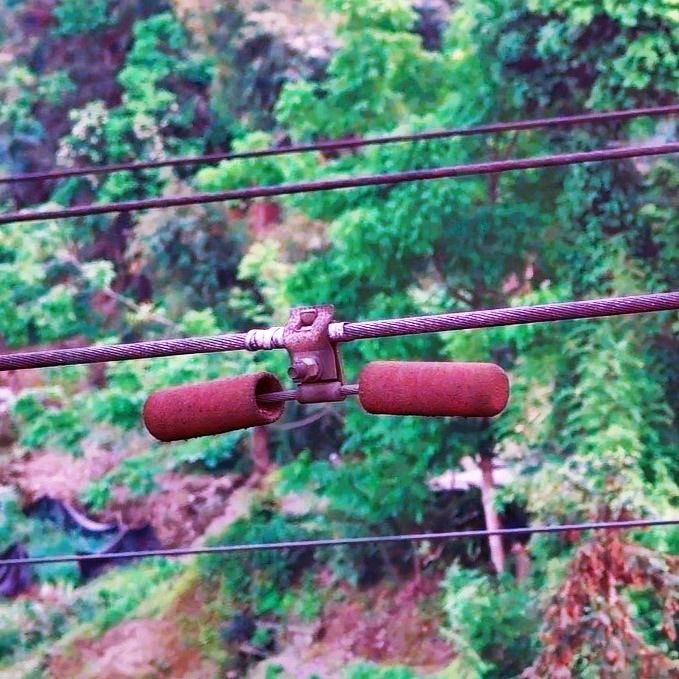Shockproof hammer: (125, 291, 515, 453)
